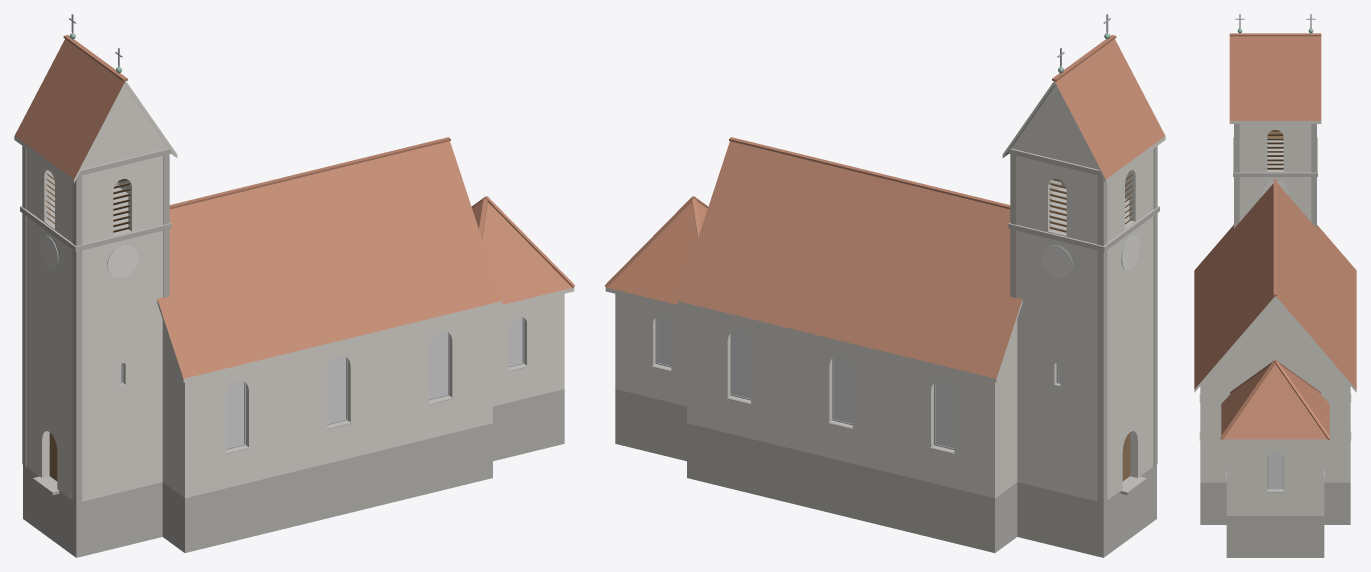
File: church_saddle_m.glb
3 views of the same model, side by side, from view 1: azimuth 30°, elevation 25°; view 2: azimuth 150°, elevation 25°; view 3: azimuth 270°, elevation 25° (orthographic). The views are drawn at different scales.
Visible parts, largest first — view 1: church_saddle_m; view 2: church_saddle_m; view 3: church_saddle_m.
Boxes of the visible parts, x1,y1,x2,y2 form: church_saddle_m: (14,14,575,557); church_saddle_m: (604,14,1165,557); church_saddle_m: (1194,14,1356,557).
Size of the model in its own units: 32.31 by 30.75 by 11.9.
